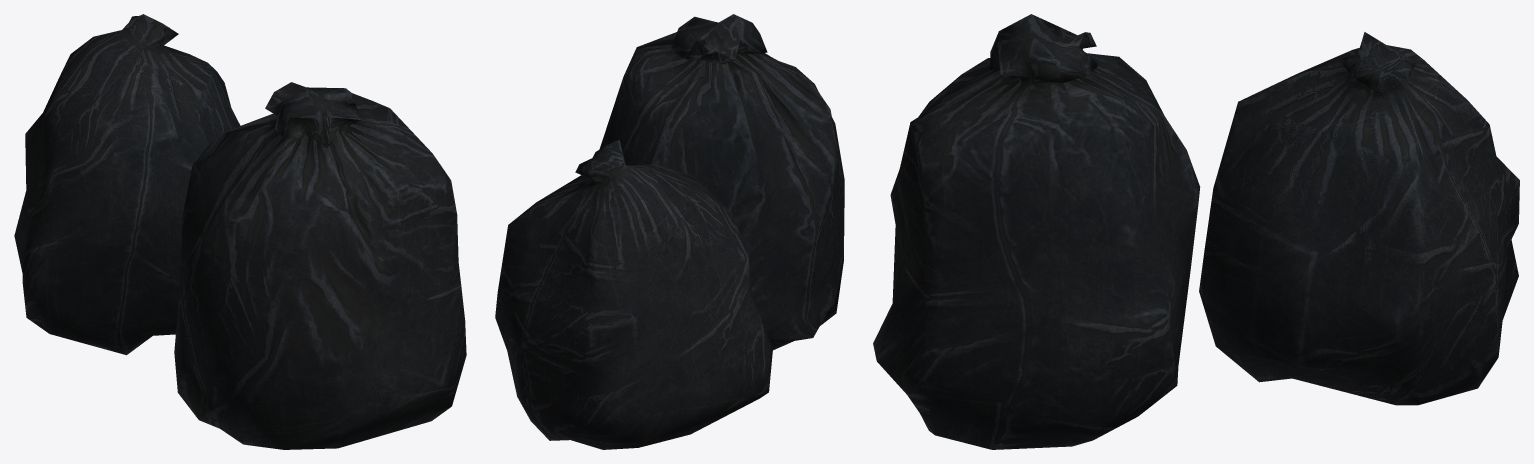
The model's file is garbage_bags.glb.
The picture shows the model from 3 angles, left to right: view 1: azimuth 30°, elevation 25°; view 2: azimuth 150°, elevation 25°; view 3: azimuth 270°, elevation 25°; orthographic projection. The views are drawn at different scales.
Parts seen in each view (by area): view 1: bag1, bag2; view 2: bag2, bag1; view 3: bag1, bag2.
Part boxes in pixels (box(x1,y1,x2,y2)): bag1: box(174, 82, 466, 449); bag2: box(14, 14, 240, 355); bag2: box(495, 140, 772, 449); bag1: box(599, 14, 844, 350); bag1: box(873, 14, 1200, 449); bag2: box(1199, 32, 1519, 405).
Size of the model in its own units: 1.1 by 1.19 by 1.81.
Materials: 1 (1 with a texture image).
